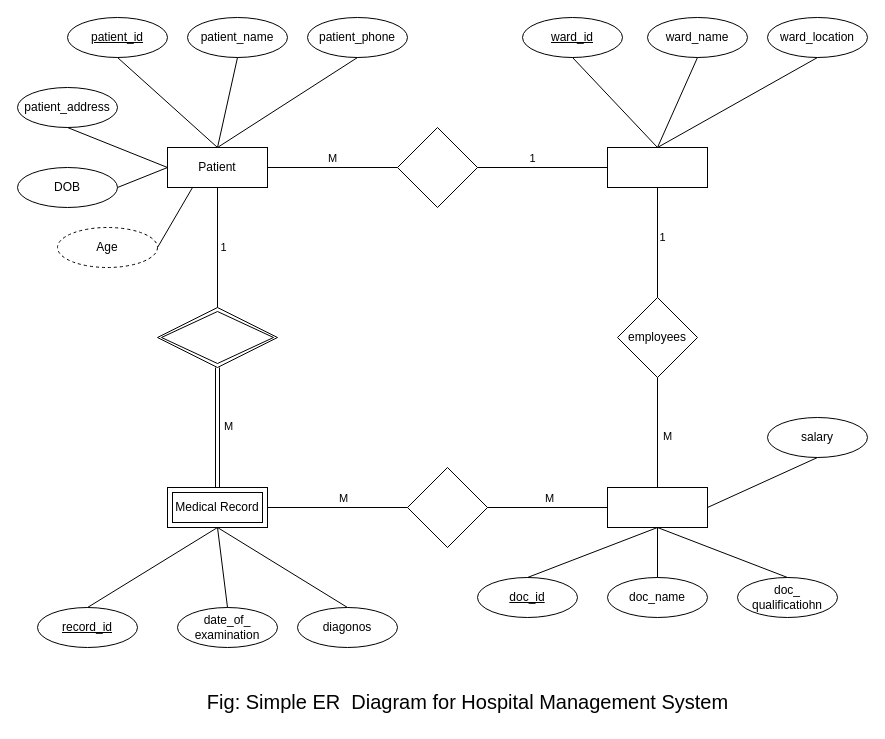
Image size: 885x739. Some labels were removed from this diagram. The shapes that lost their labels are listed below. From the top down, each one's centre as x and y in pixels, then its label:
At pixel 437 167: "Admits".
At pixel 657 167: "Hospital_ward".
At pixel 217 337: "Relationship".
At pixel 447 507: "Fills".
At pixel 657 507: "Doctor".
